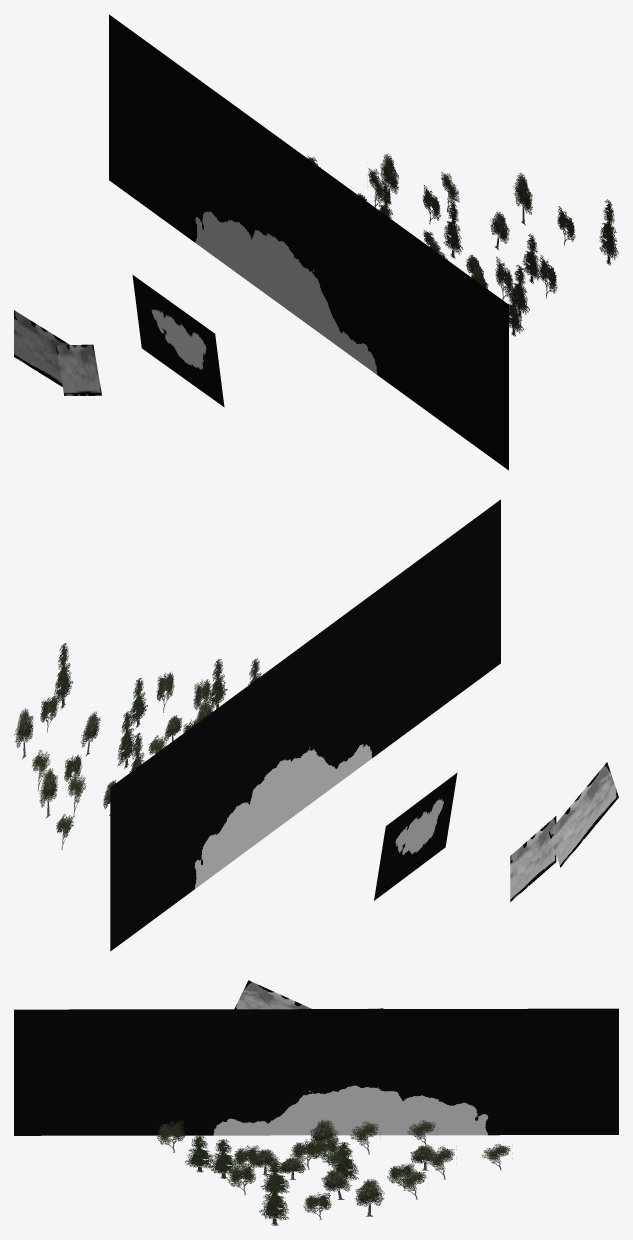
The model's file is FOG.fbx.
3 renders of one model, top to bottom at view 1: azimuth 30°, elevation 25°; view 2: azimuth 150°, elevation 25°; view 3: azimuth 270°, elevation 25°, orthographic. The views are drawn at different scales.
Parts seen in each view (by area): view 1: Plane.036, Plane.008; view 2: Plane.036, Plane.008; view 3: Plane.036, Plane.008.
Boxes of the visible parts, box(x1,y1,x2,y2) form: Plane.036: box(14, 14, 508, 470); Plane.008: box(306, 153, 618, 336); Plane.036: box(110, 499, 618, 951); Plane.008: box(14, 643, 261, 849); Plane.036: box(14, 980, 618, 1135); Plane.008: box(156, 1119, 512, 1225).
Size of the model in its own units: 19063 by 6801 by 24564.
